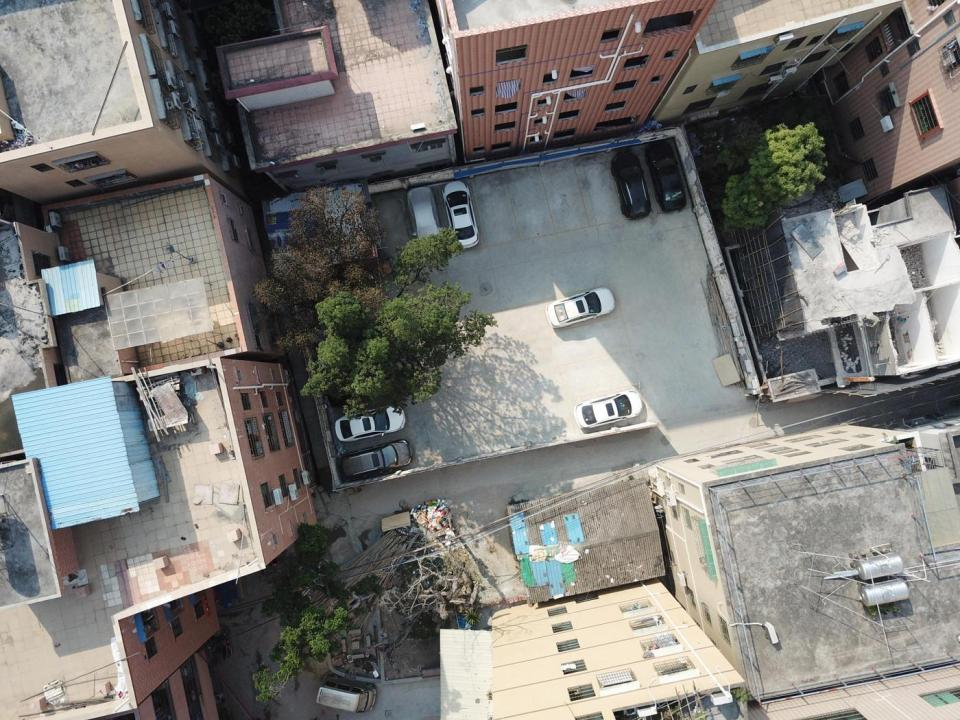car: (545, 286, 617, 328), (644, 140, 686, 212), (573, 390, 643, 430), (611, 151, 652, 219), (335, 404, 406, 443), (406, 186, 445, 254), (442, 180, 480, 249)
van: (341, 439, 413, 481), (316, 674, 377, 713)
